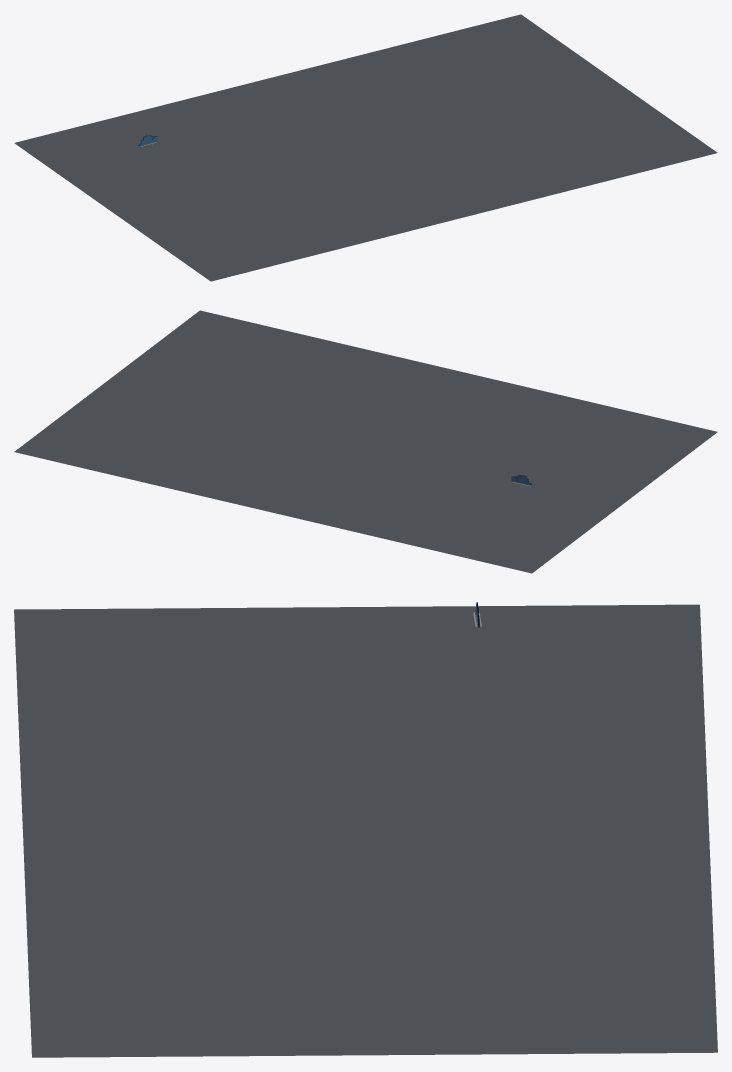
Rendered from chattanooga-choo-choo-sign.glb.
3 views of the same model, one above another, from view 1: azimuth 30°, elevation 25°; view 2: azimuth 150°, elevation 25°; view 3: azimuth 270°, elevation 25° (orthographic). The views are drawn at different scales.
Parts seen in each view (by area): view 1: LOD0; view 2: LOD0; view 3: LOD0.
Part boxes in pixels (x1,y1,x2,y2): LOD0: (14,14,717,281); LOD0: (14,310,717,573); LOD0: (14,602,717,1057).
Size of what is drawn, in the model's own units: 431 by 28.26 by 283.
2 materials, 2 textured.
